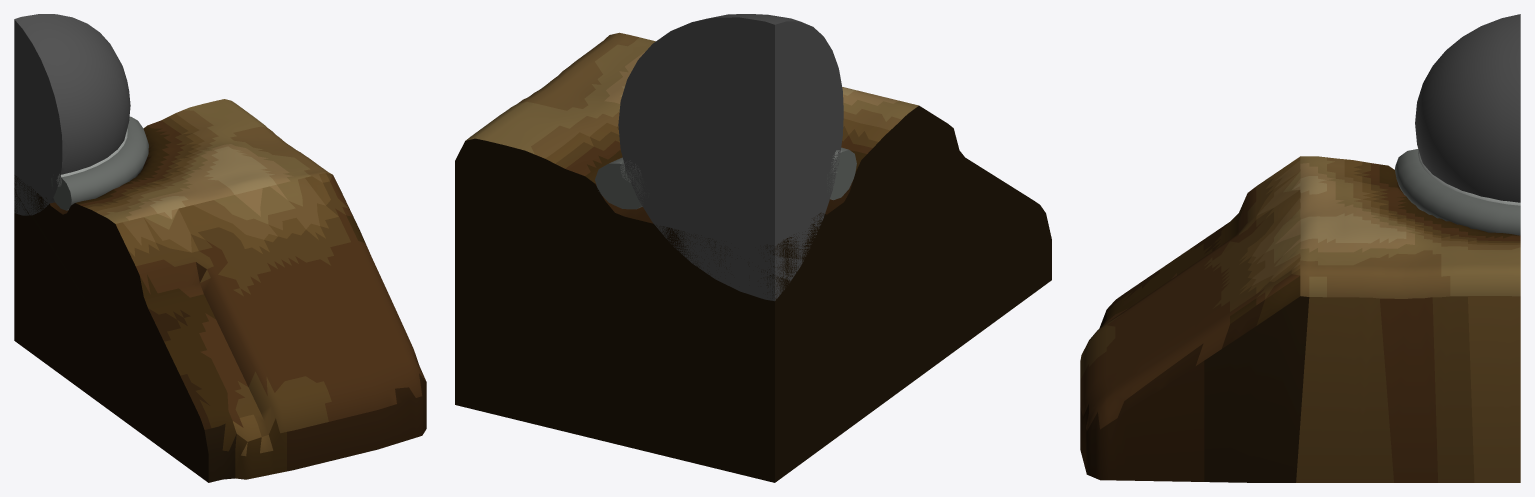
Rendered from mace_anchor_br.glb.
3 renders of one model, left to right at view 1: azimuth 30°, elevation 25°; view 2: azimuth 150°, elevation 25°; view 3: azimuth 270°, elevation 25°, orthographic. The views are drawn at different scales.
Parts seen in each view (by area): view 1: crate, ball, socket; view 2: crate, ball, socket; view 3: crate, ball, socket.
Boxes of the visible parts, <box> form: crate: <box>14,99,426,482</box>; ball: <box>14,14,130,215</box>; socket: <box>51,116,148,210</box>; crate: <box>455,32,1051,482</box>; ball: <box>618,14,843,301</box>; socket: <box>595,147,856,209</box>; crate: <box>1080,156,1520,482</box>; ball: <box>1415,14,1520,202</box>; socket: <box>1394,149,1520,235</box>.
Bounding box in the file's own units: 16 × 21.95 × 25.
